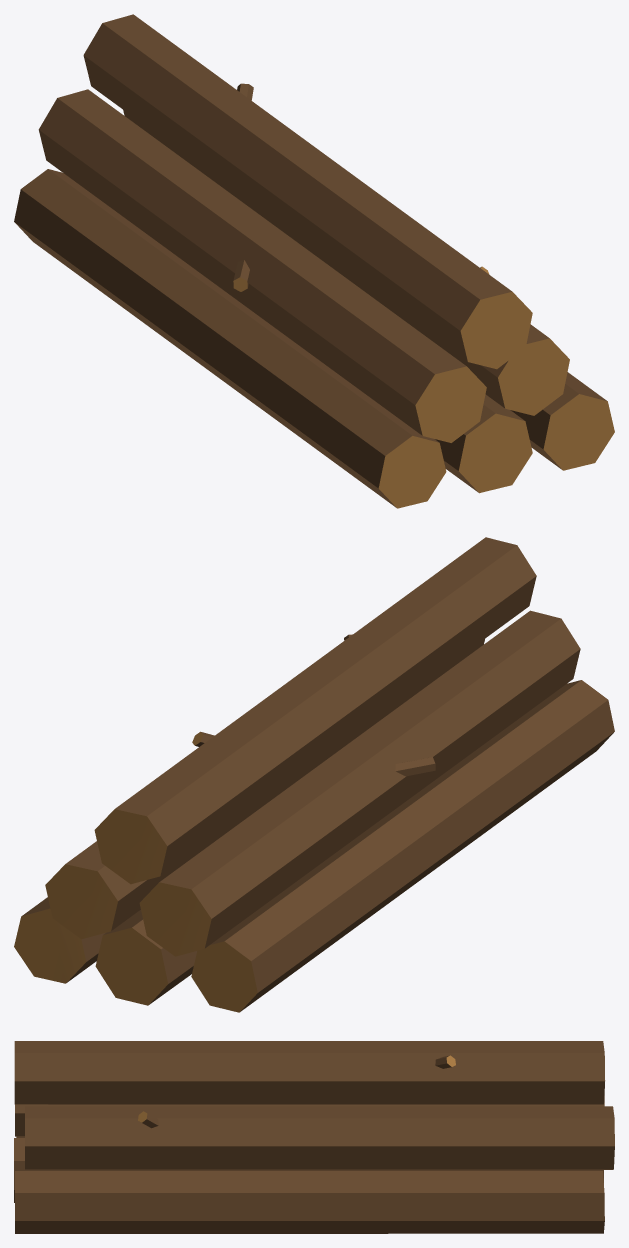
Rendered from props_timber.fbx.
3 renders of one model, top to bottom at view 1: azimuth 30°, elevation 25°; view 2: azimuth 150°, elevation 25°; view 3: azimuth 270°, elevation 25°, orthographic. The views are drawn at different scales.
Parts seen in each view (by area): view 1: props_timber; view 2: props_timber; view 3: props_timber.
Boxes of the visible parts, x1=… form: props_timber: x1=14, y1=14, x2=614, y2=508; props_timber: x1=14, y1=537, x2=614, y2=1012; props_timber: x1=14, y1=1041, x2=614, y2=1233.
Size of the model in its own units: 70.46 by 55.73 by 200.
